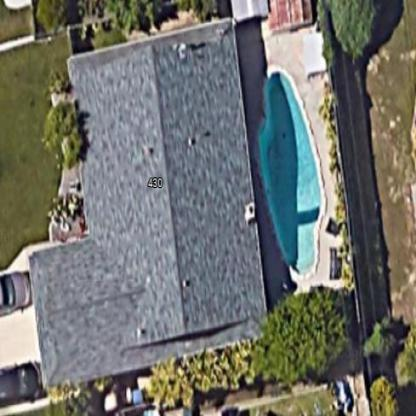pool: (249, 56, 331, 290)
